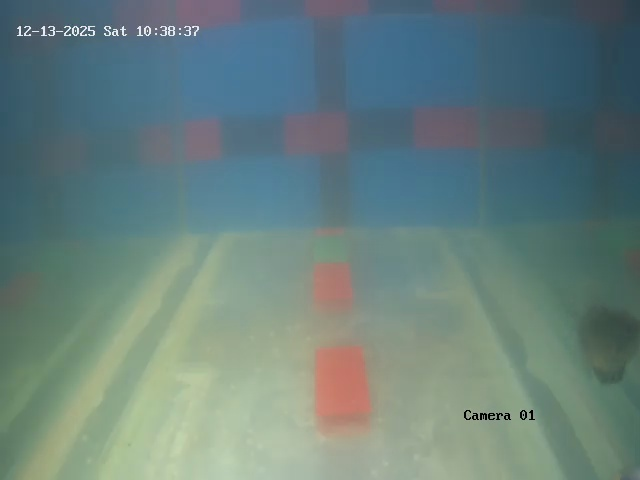fish: (574, 302, 636, 385)
